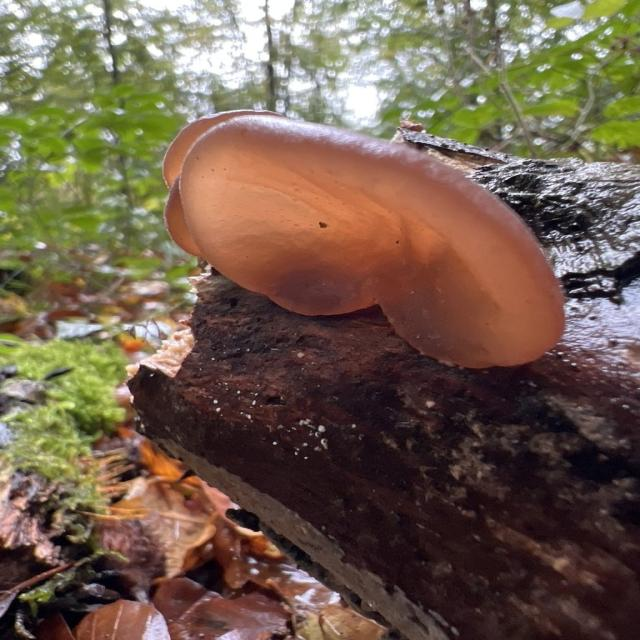Matang: (143, 91, 574, 387)
